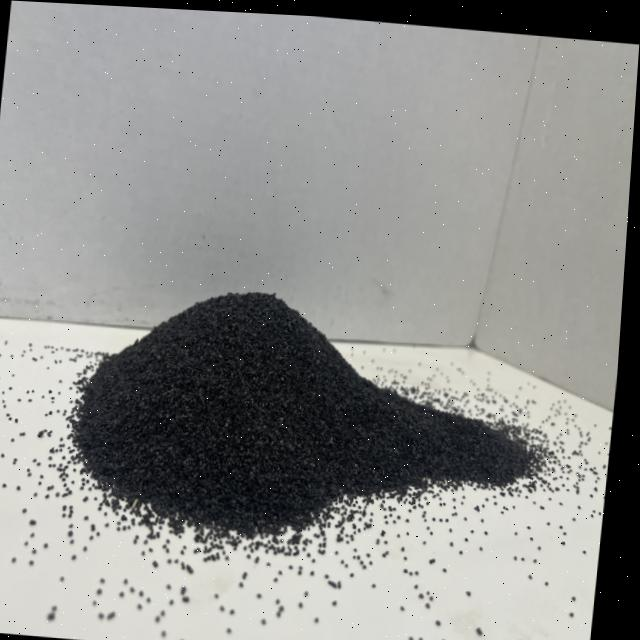Poppy Seeds: (60, 266, 470, 565)
